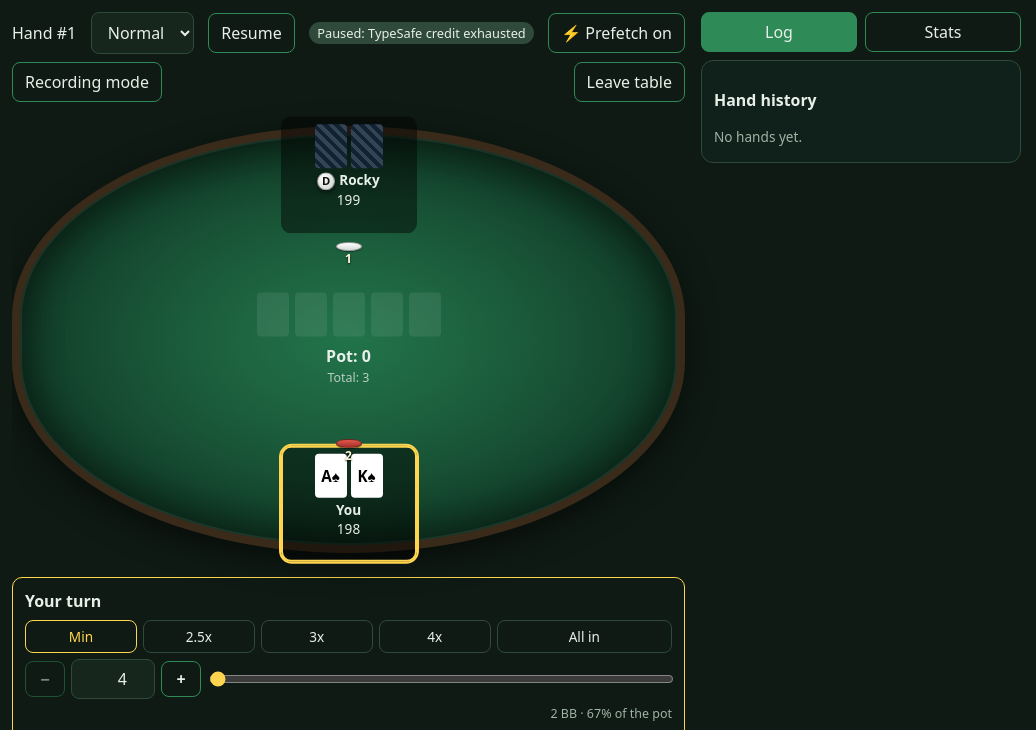
TableView › hides the prefetch toggle and the billing notice in recording mode
The width and height of the screenshot is (1036, 730).
expect the button "⚡ Prefetch on" is shown: met, box [548, 13, 685, 53]
expect the text "Paused: TypeSafe credit exhausted" is shown: met, box [309, 22, 534, 44]
Click the button "Recording mode": (87, 82) [12, 62, 162, 102]
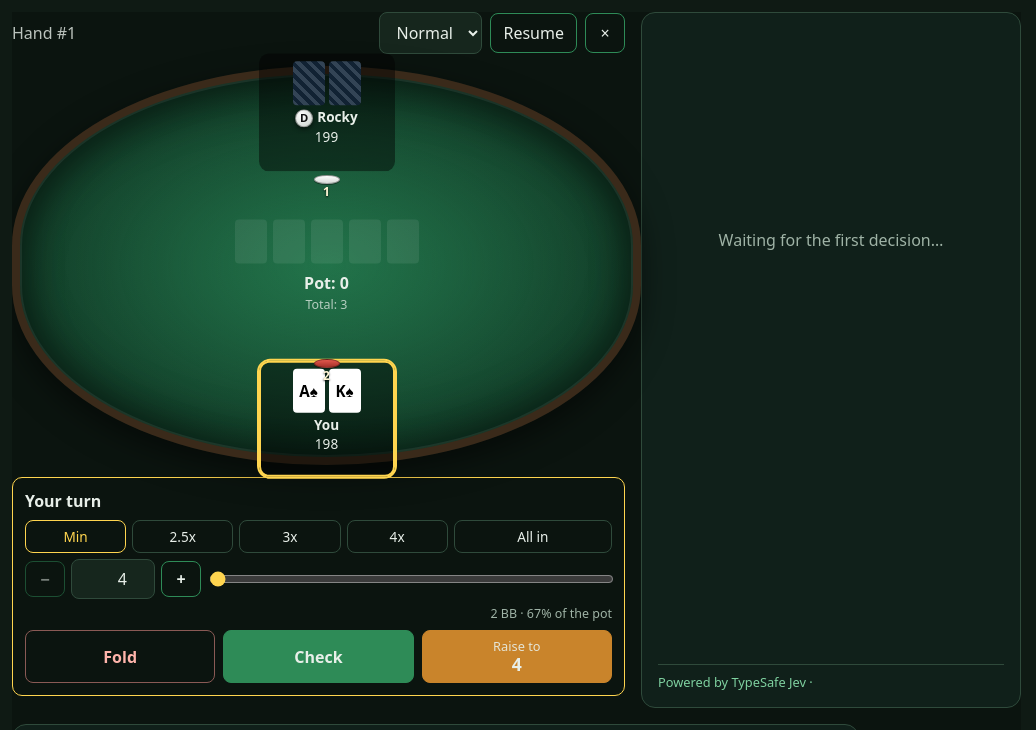
expect the button "Resume" is shown: met, box [490, 13, 577, 53]
expect the button "⚡ Prefetch on" is gone: met
expect the text "Paused: TypeSafe credit exhausted" is gone: met
